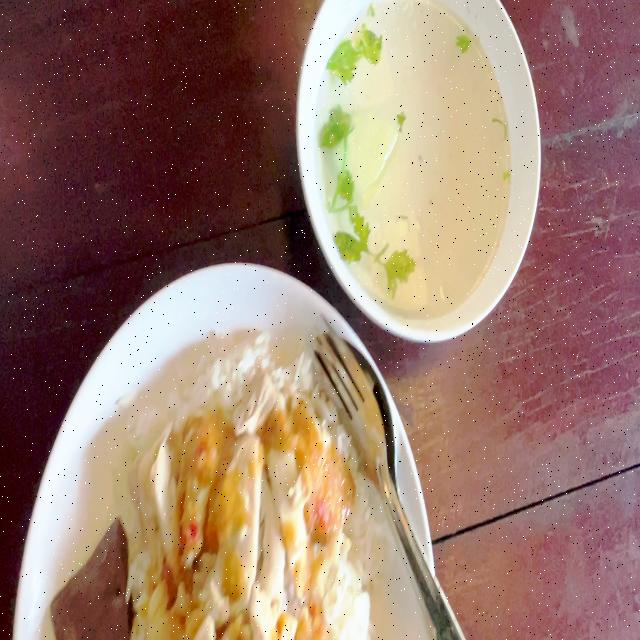boiled_chicken: (147, 419, 337, 640)
boiled_chicken_blood_jelly: (46, 509, 128, 640)
chicken_rice: (56, 335, 358, 640)
